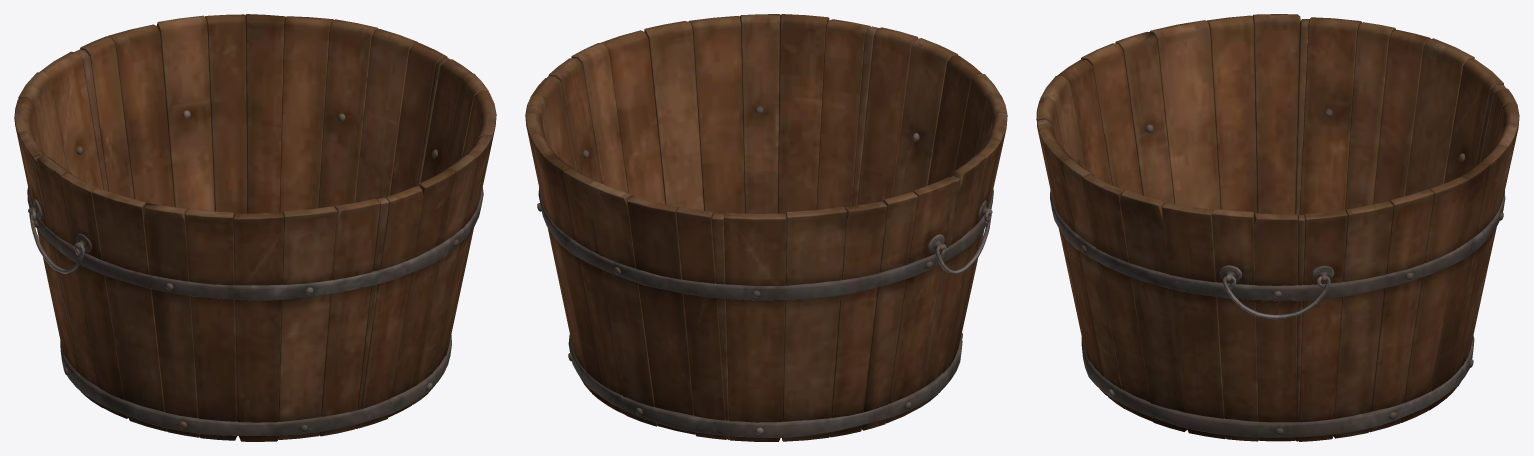
Rendered from wooden_bucket_02.glb.
3 views of the same model, side by side, from view 1: azimuth 30°, elevation 25°; view 2: azimuth 150°, elevation 25°; view 3: azimuth 270°, elevation 25° (orthographic).
Visible parts, largest first — view 1: wooden_bucket_02; view 2: wooden_bucket_02; view 3: wooden_bucket_02.
Boxes of the visible parts, box(x1,y1,x2,y2) form: wooden_bucket_02: box(14, 14, 496, 441); wooden_bucket_02: box(525, 14, 1007, 441); wooden_bucket_02: box(1036, 14, 1519, 441).
Size of the model in its own units: 0.6153 by 0.3504 by 0.6163.
1 material, 1 textured.
